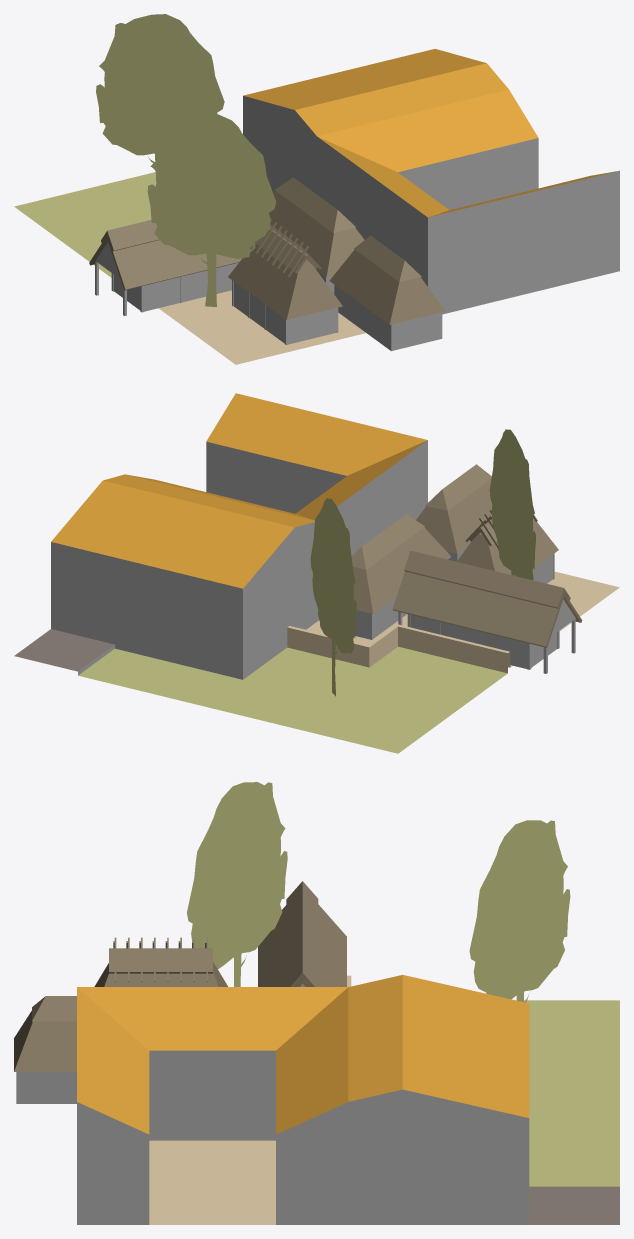
3 renders of one model, top to bottom at view 1: azimuth 30°, elevation 25°; view 2: azimuth 150°, elevation 25°; view 3: azimuth 270°, elevation 25°, orthographic. The views are drawn at different scales.
Parts seen in each view (by area): view 1: wr21; view 2: wr21; view 3: wr21.
Boxes of the visible parts, x1,y1,x2,y2 form: wr21: (14,14,619,364); wr21: (14,393,619,753); wr21: (14,782,619,1224).
Size of the model in its own units: 32.84 by 14.71 by 33.48.
